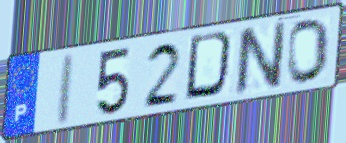2: (139, 40, 185, 108)
5: (93, 44, 134, 118)
D: (182, 29, 239, 103)
I: (53, 51, 78, 129)
N: (234, 18, 289, 99)
O: (286, 16, 332, 86)
